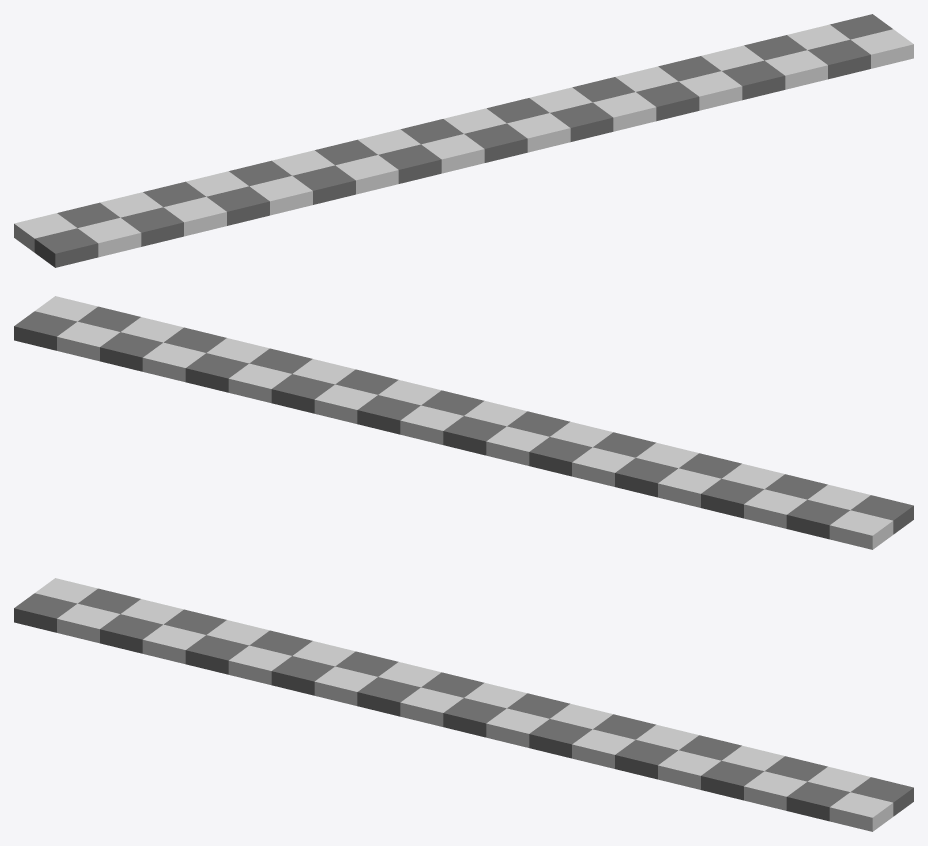
The model's file is win.FBX.
The picture shows the model from 3 angles, top to bottom: view 1: azimuth 30°, elevation 25°; view 2: azimuth 150°, elevation 25°; view 3: azimuth 330°, elevation 25°; orthographic projection.
Parts seen in each view (by area): view 1: Plane004; view 2: Plane004; view 3: Plane004.
Part boxes in pixels (<box>): Plane004: <box>14,14,913,267</box>; Plane004: <box>14,296,913,549</box>; Plane004: <box>14,578,913,831</box>.
Bounding box in the file's own units: 472 × 7.45 × 39.37.
1 material, 1 textured.
